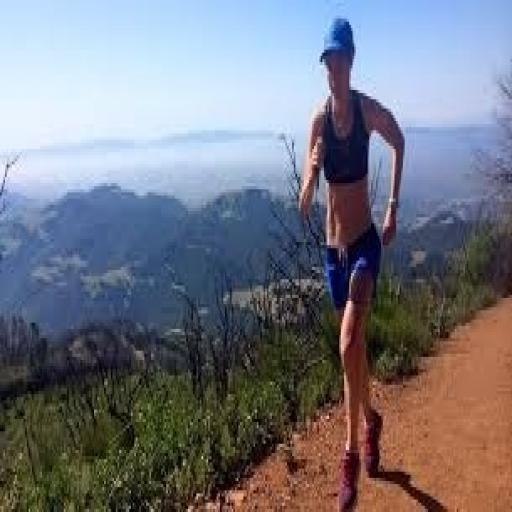running: (295, 12, 408, 509)
